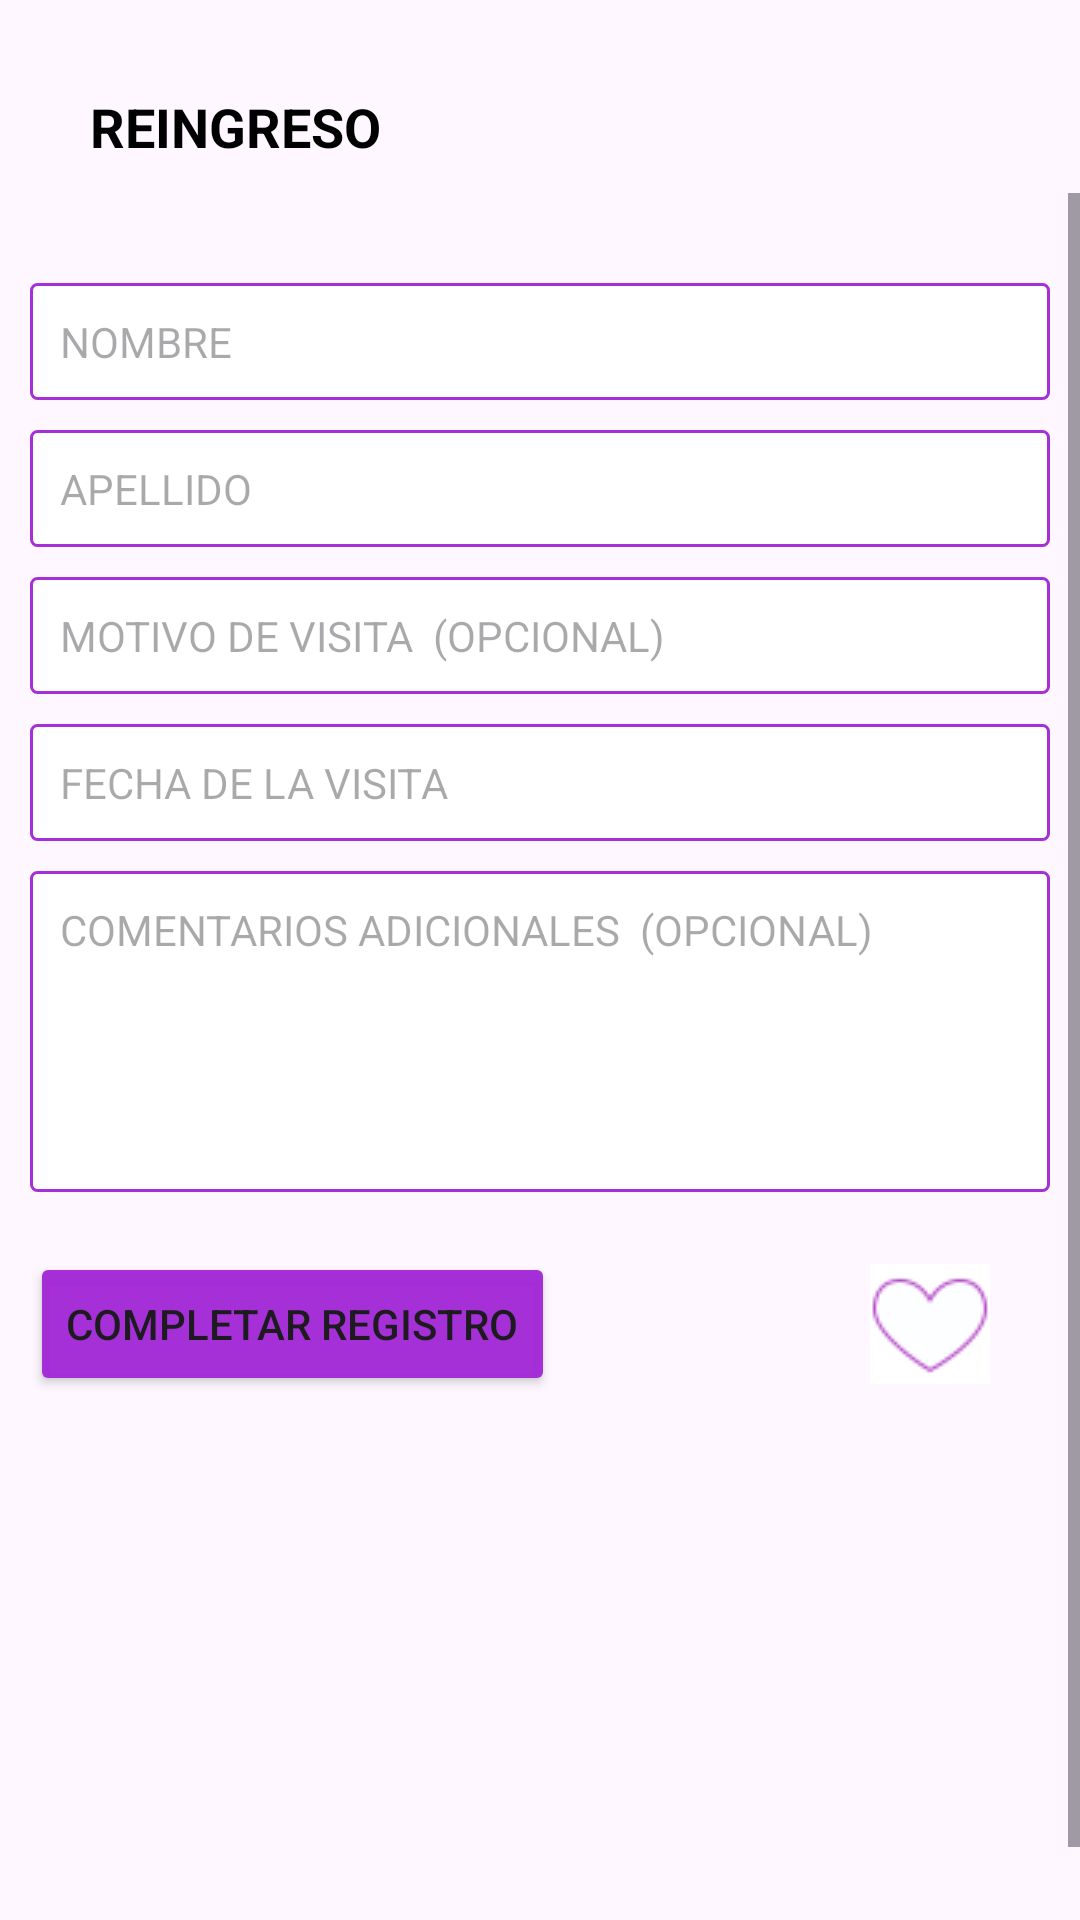

Where to tap for icons on this 1080px×1920px app screen, as (x=x, y=y):
like: (x=930, y=1325)
